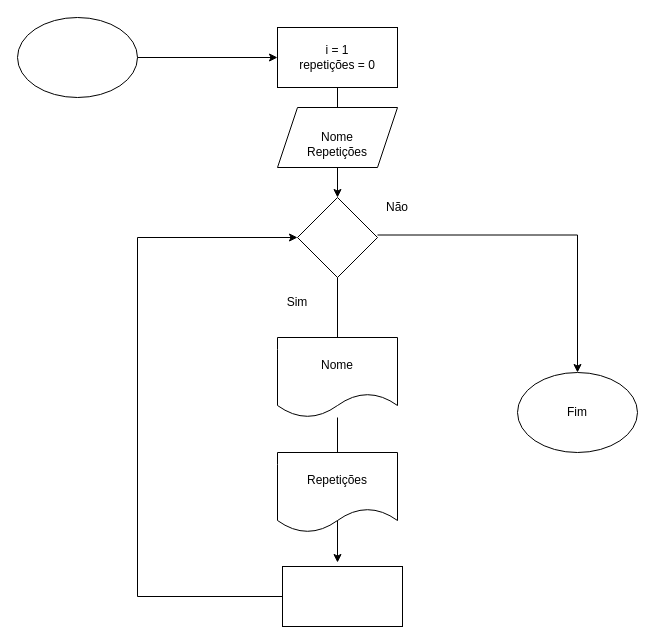
The diagram is 655 pixels wide and 644 high, and some of its shapes have lost their labels. Each missing label, with the box of its shape:
i <= repetições: (296, 196, 378, 278)
i++: (282, 566, 402, 626)
Inicio: (16, 16, 138, 98)
